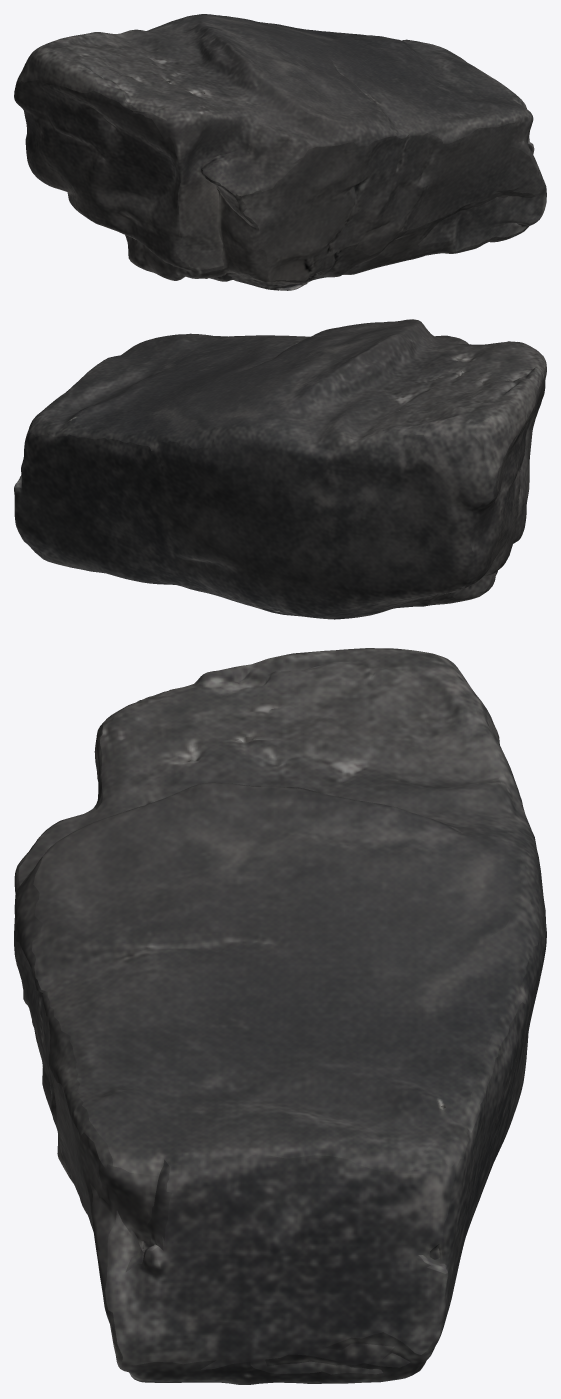
The picture shows the model from 3 angles, top to bottom: view 1: azimuth 30°, elevation 25°; view 2: azimuth 150°, elevation 25°; view 3: azimuth 270°, elevation 25°; orthographic projection. The views are drawn at different scales.
Visible parts, largest first — view 1: world; view 2: world; view 3: world.
Boxes of the visible parts, x1,y1,x2,y2 form: world: [14, 14, 546, 290]; world: [14, 319, 546, 619]; world: [14, 648, 546, 1384].
Bounding box in the file's own units: 3.5 × 1.75 × 2.12.
Materials: 1 (1 with a texture image).
